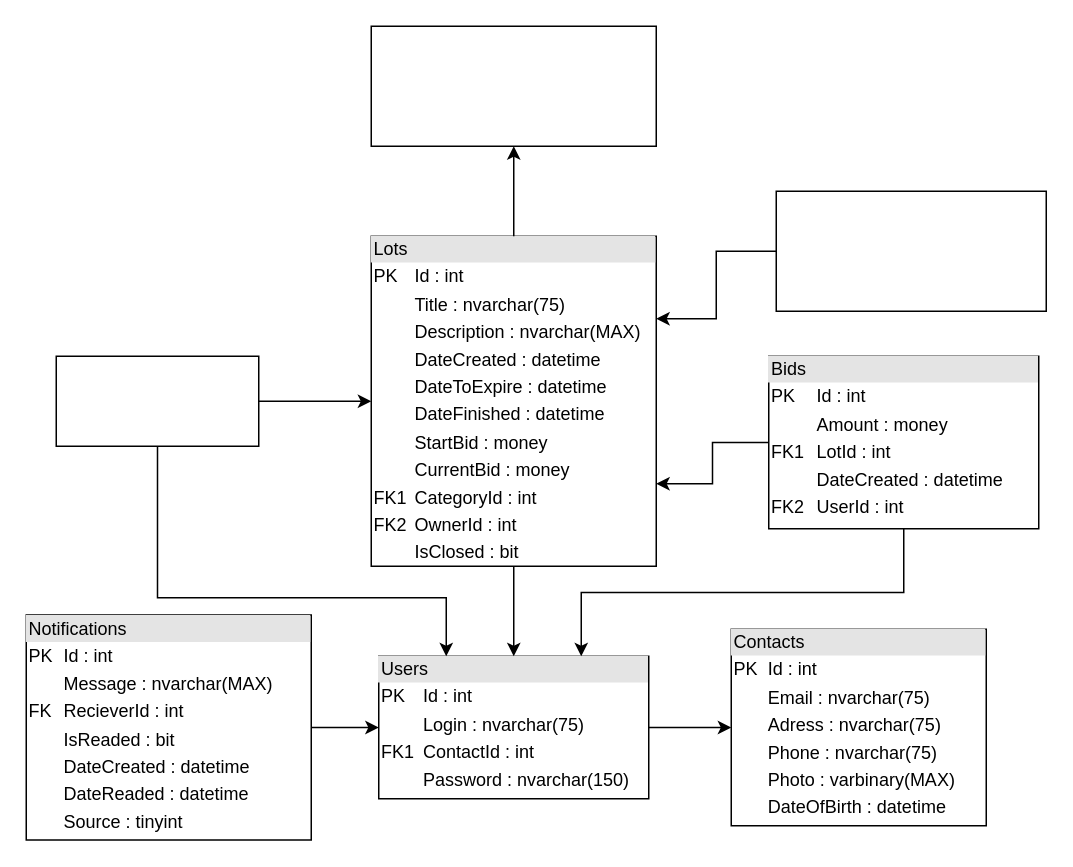
This 1073x867 diagram has some shape labels left out. The centre of each missing label's shape, as x and y in pixels:
Categories PK Id : int Name : nvarchar(75) Description : nvarchar(MAX): the point at 513,85
LotContents PK Id : int Content : varbinary(MAX) FK1 LotId : int: the point at 910,250
UserLots PK, FK UserId : int PK, FK LotId : int: the point at 157,400
